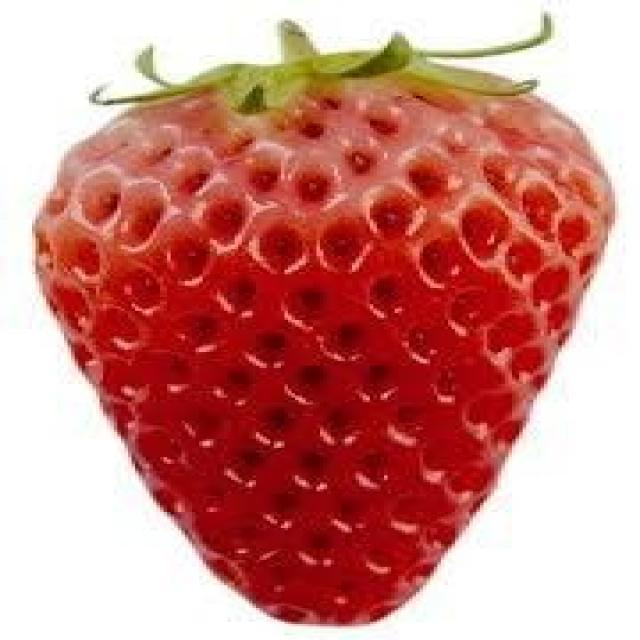straw-ripe: (36, 72, 616, 630)
